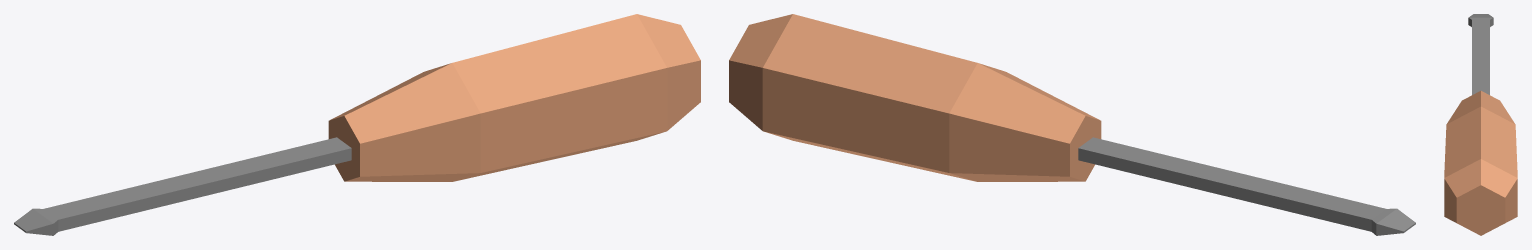
Rendered from SM_Tool_04.fbx.
3 renders of one model, left to right at view 1: azimuth 30°, elevation 25°; view 2: azimuth 150°, elevation 25°; view 3: azimuth 270°, elevation 25°, orthographic. The views are drawn at different scales.
Parts seen in each view (by area): view 1: screwdriver; view 2: screwdriver; view 3: screwdriver.
Boxes of the visible parts, box(x1,y1,x2,y2) form: screwdriver: box(14, 14, 700, 235); screwdriver: box(729, 14, 1415, 235); screwdriver: box(1444, 14, 1517, 235).
Size of the model in its own units: 0.3881 by 0.0616 by 0.0712.
